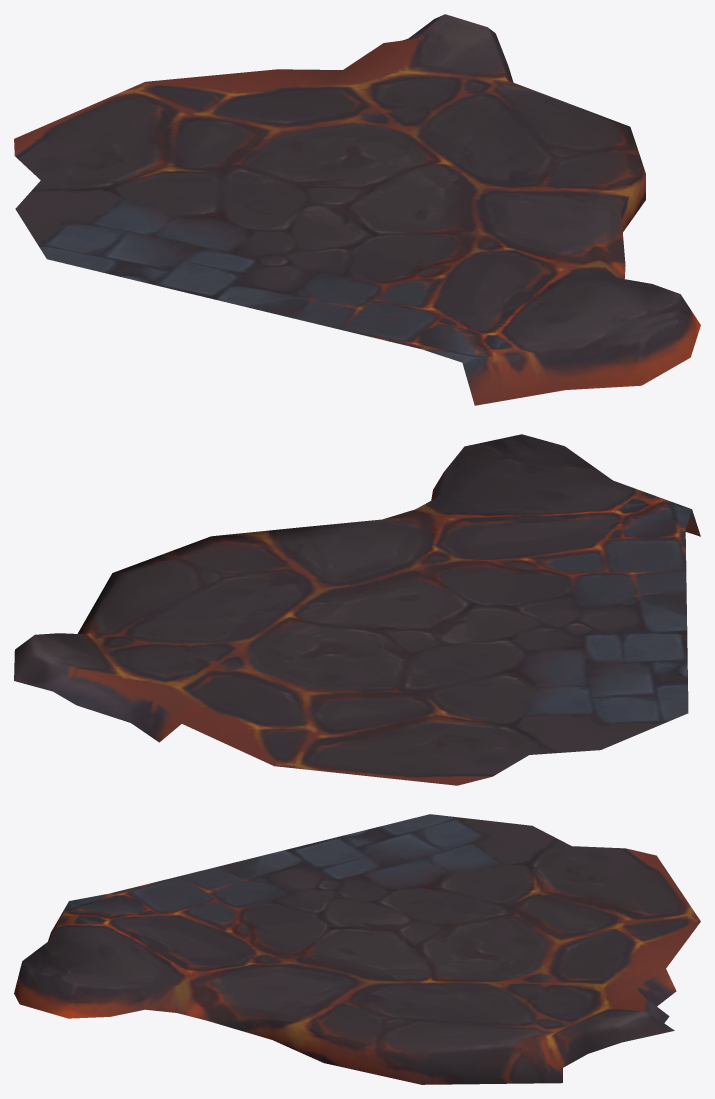
Rendered from grass_yanjiangchengbao_006.FBX.
3 renders of one model, top to bottom at view 1: azimuth 30°, elevation 25°; view 2: azimuth 150°, elevation 25°; view 3: azimuth 270°, elevation 25°, orthographic. The views are drawn at different scales.
Visible parts, largest first — view 1: grass_yanjiangchengbao_006; view 2: grass_yanjiangchengbao_006; view 3: grass_yanjiangchengbao_006.
Boxes of the visible parts, x1,y1,x2,y2 form: grass_yanjiangchengbao_006: [14, 14, 700, 405]; grass_yanjiangchengbao_006: [14, 434, 700, 785]; grass_yanjiangchengbao_006: [14, 814, 700, 1084].
Bounding box in the file's own units: 88.94 × 106 × 10.34.
